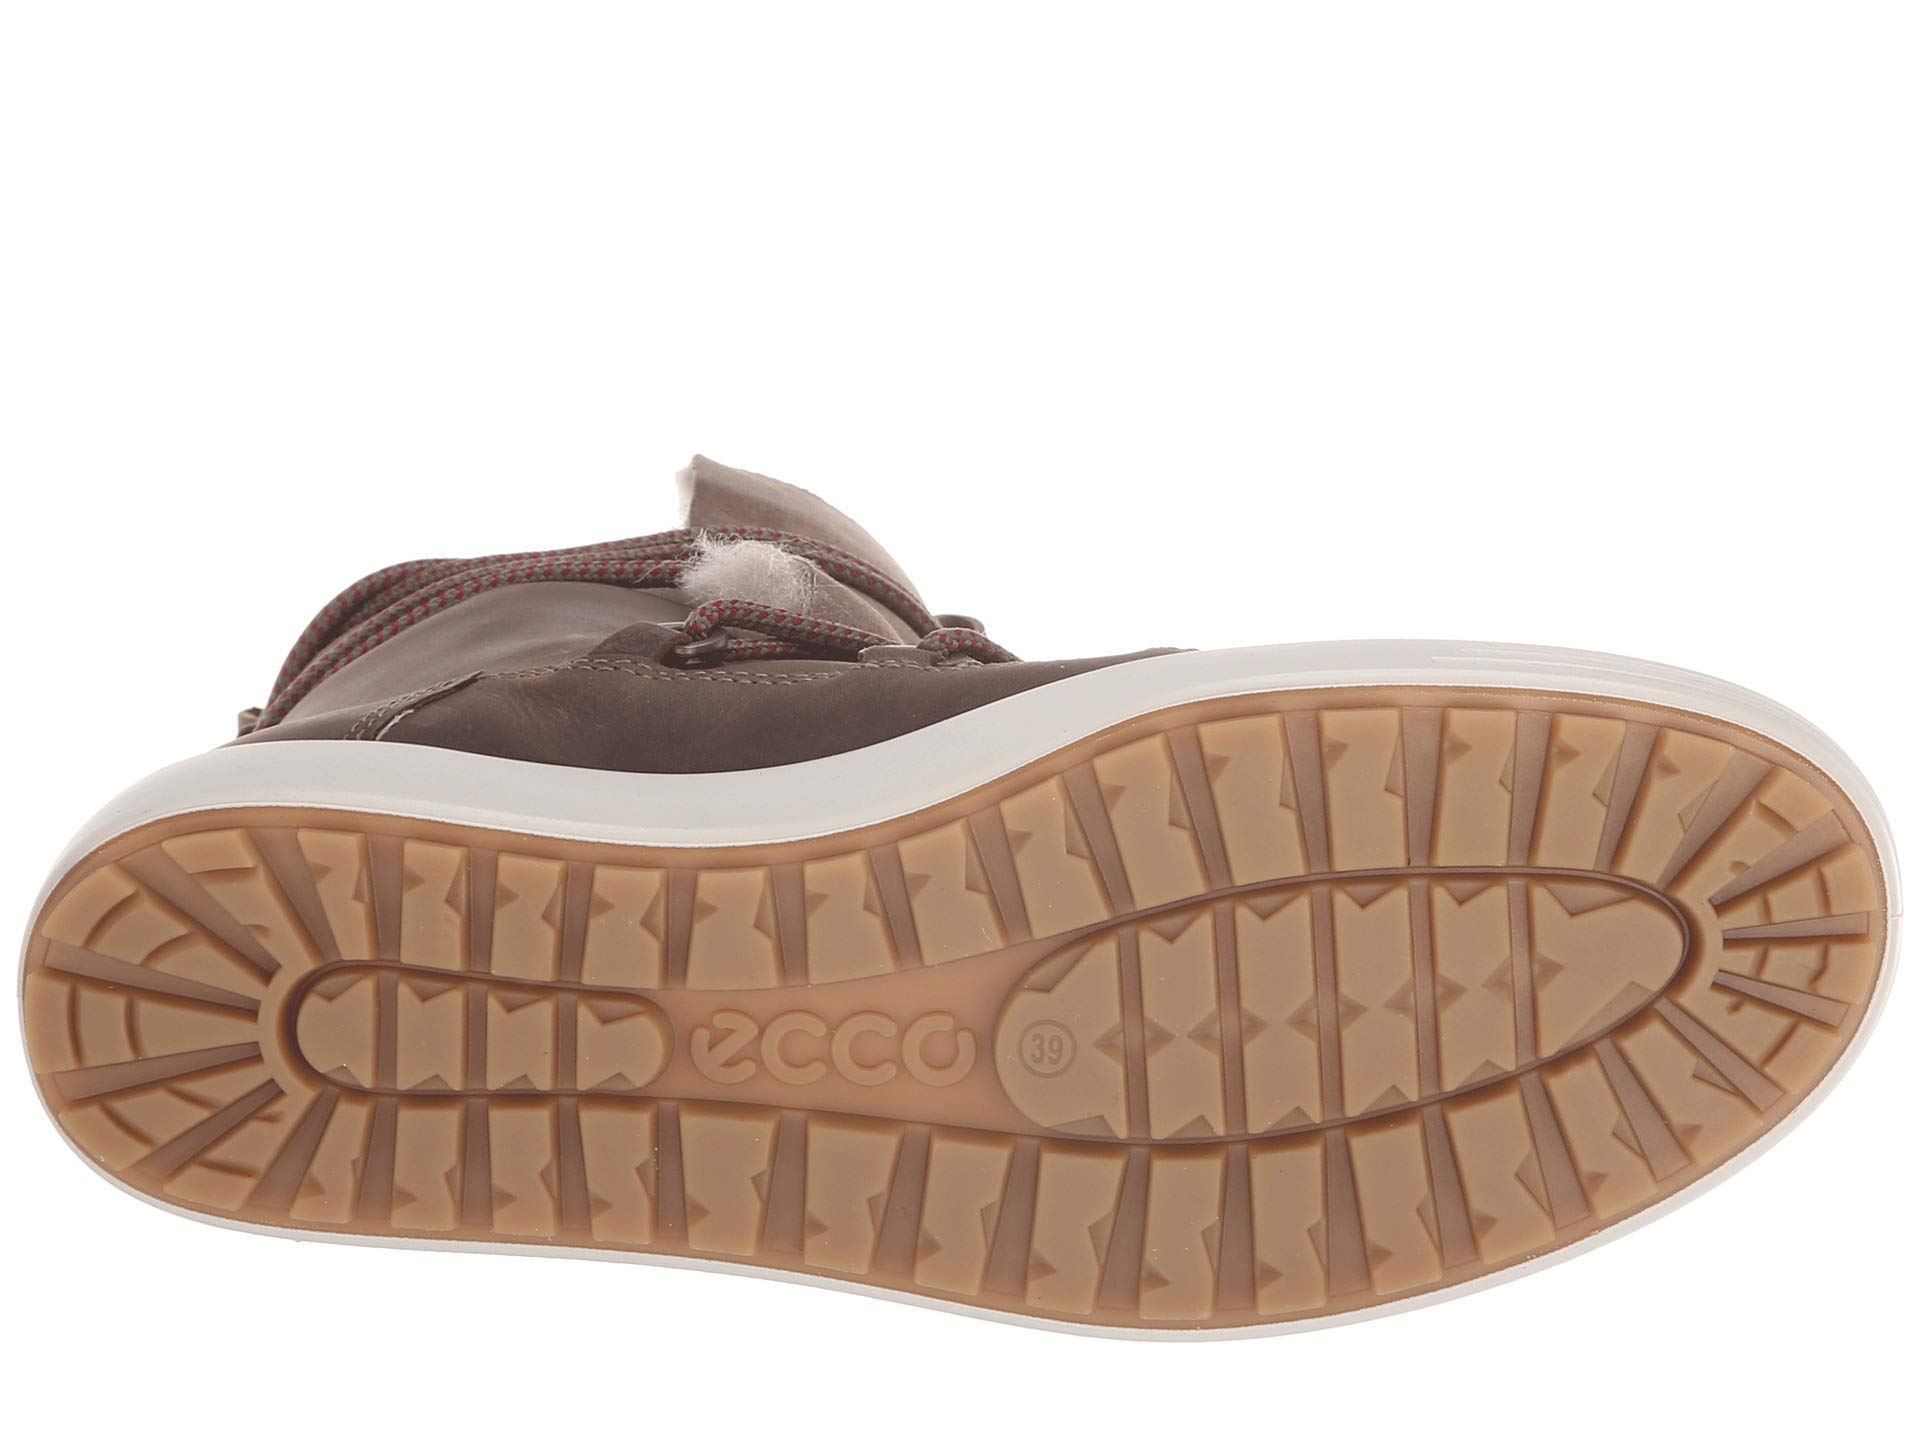circle: (674, 998, 978, 1124), (1011, 1007, 1085, 1085)
quad: (263, 830, 807, 1023), (1011, 1131, 1346, 1324), (1188, 718, 1518, 885), (358, 1107, 689, 1262)
text: (674, 998, 978, 1124), (1011, 1007, 1085, 1085)
triangle: (263, 830, 807, 1023), (1011, 1131, 1346, 1324), (1188, 718, 1518, 885), (358, 1107, 689, 1262)
